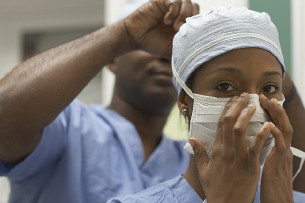face: (123, 31, 186, 109)
face_mask: (189, 46, 282, 166)
